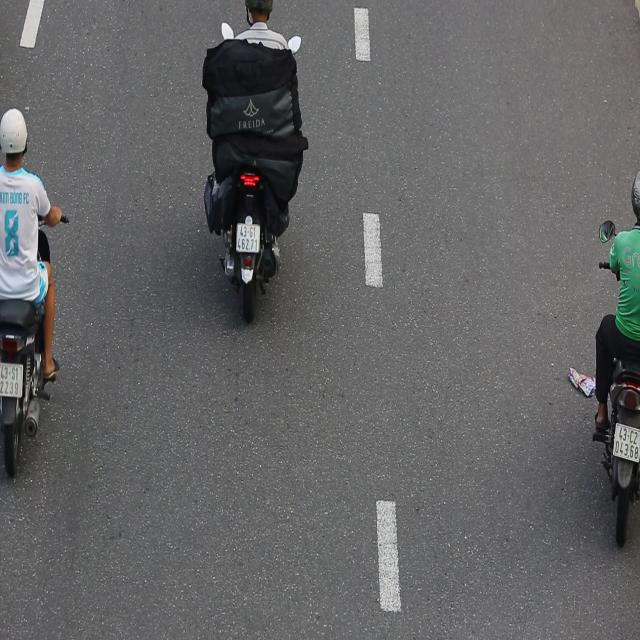motorbike: (207, 1, 316, 337)
